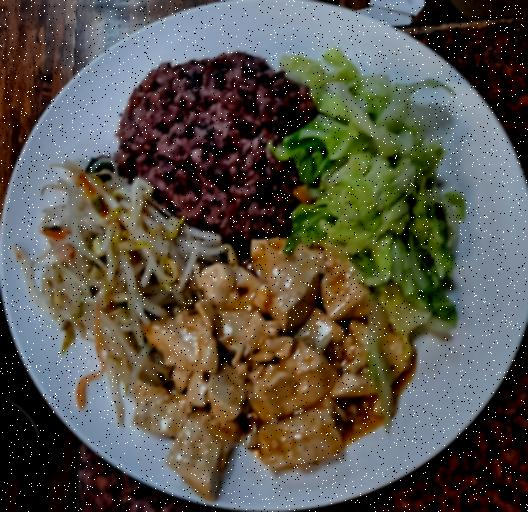plate: (4, 6, 528, 510)
purple rice: (112, 52, 307, 242)
side dish: (156, 254, 412, 476), (282, 48, 480, 319), (36, 160, 211, 407)
